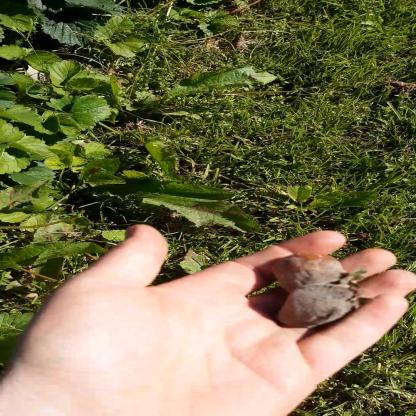unripe: (272, 282, 367, 329), (268, 249, 343, 288)
